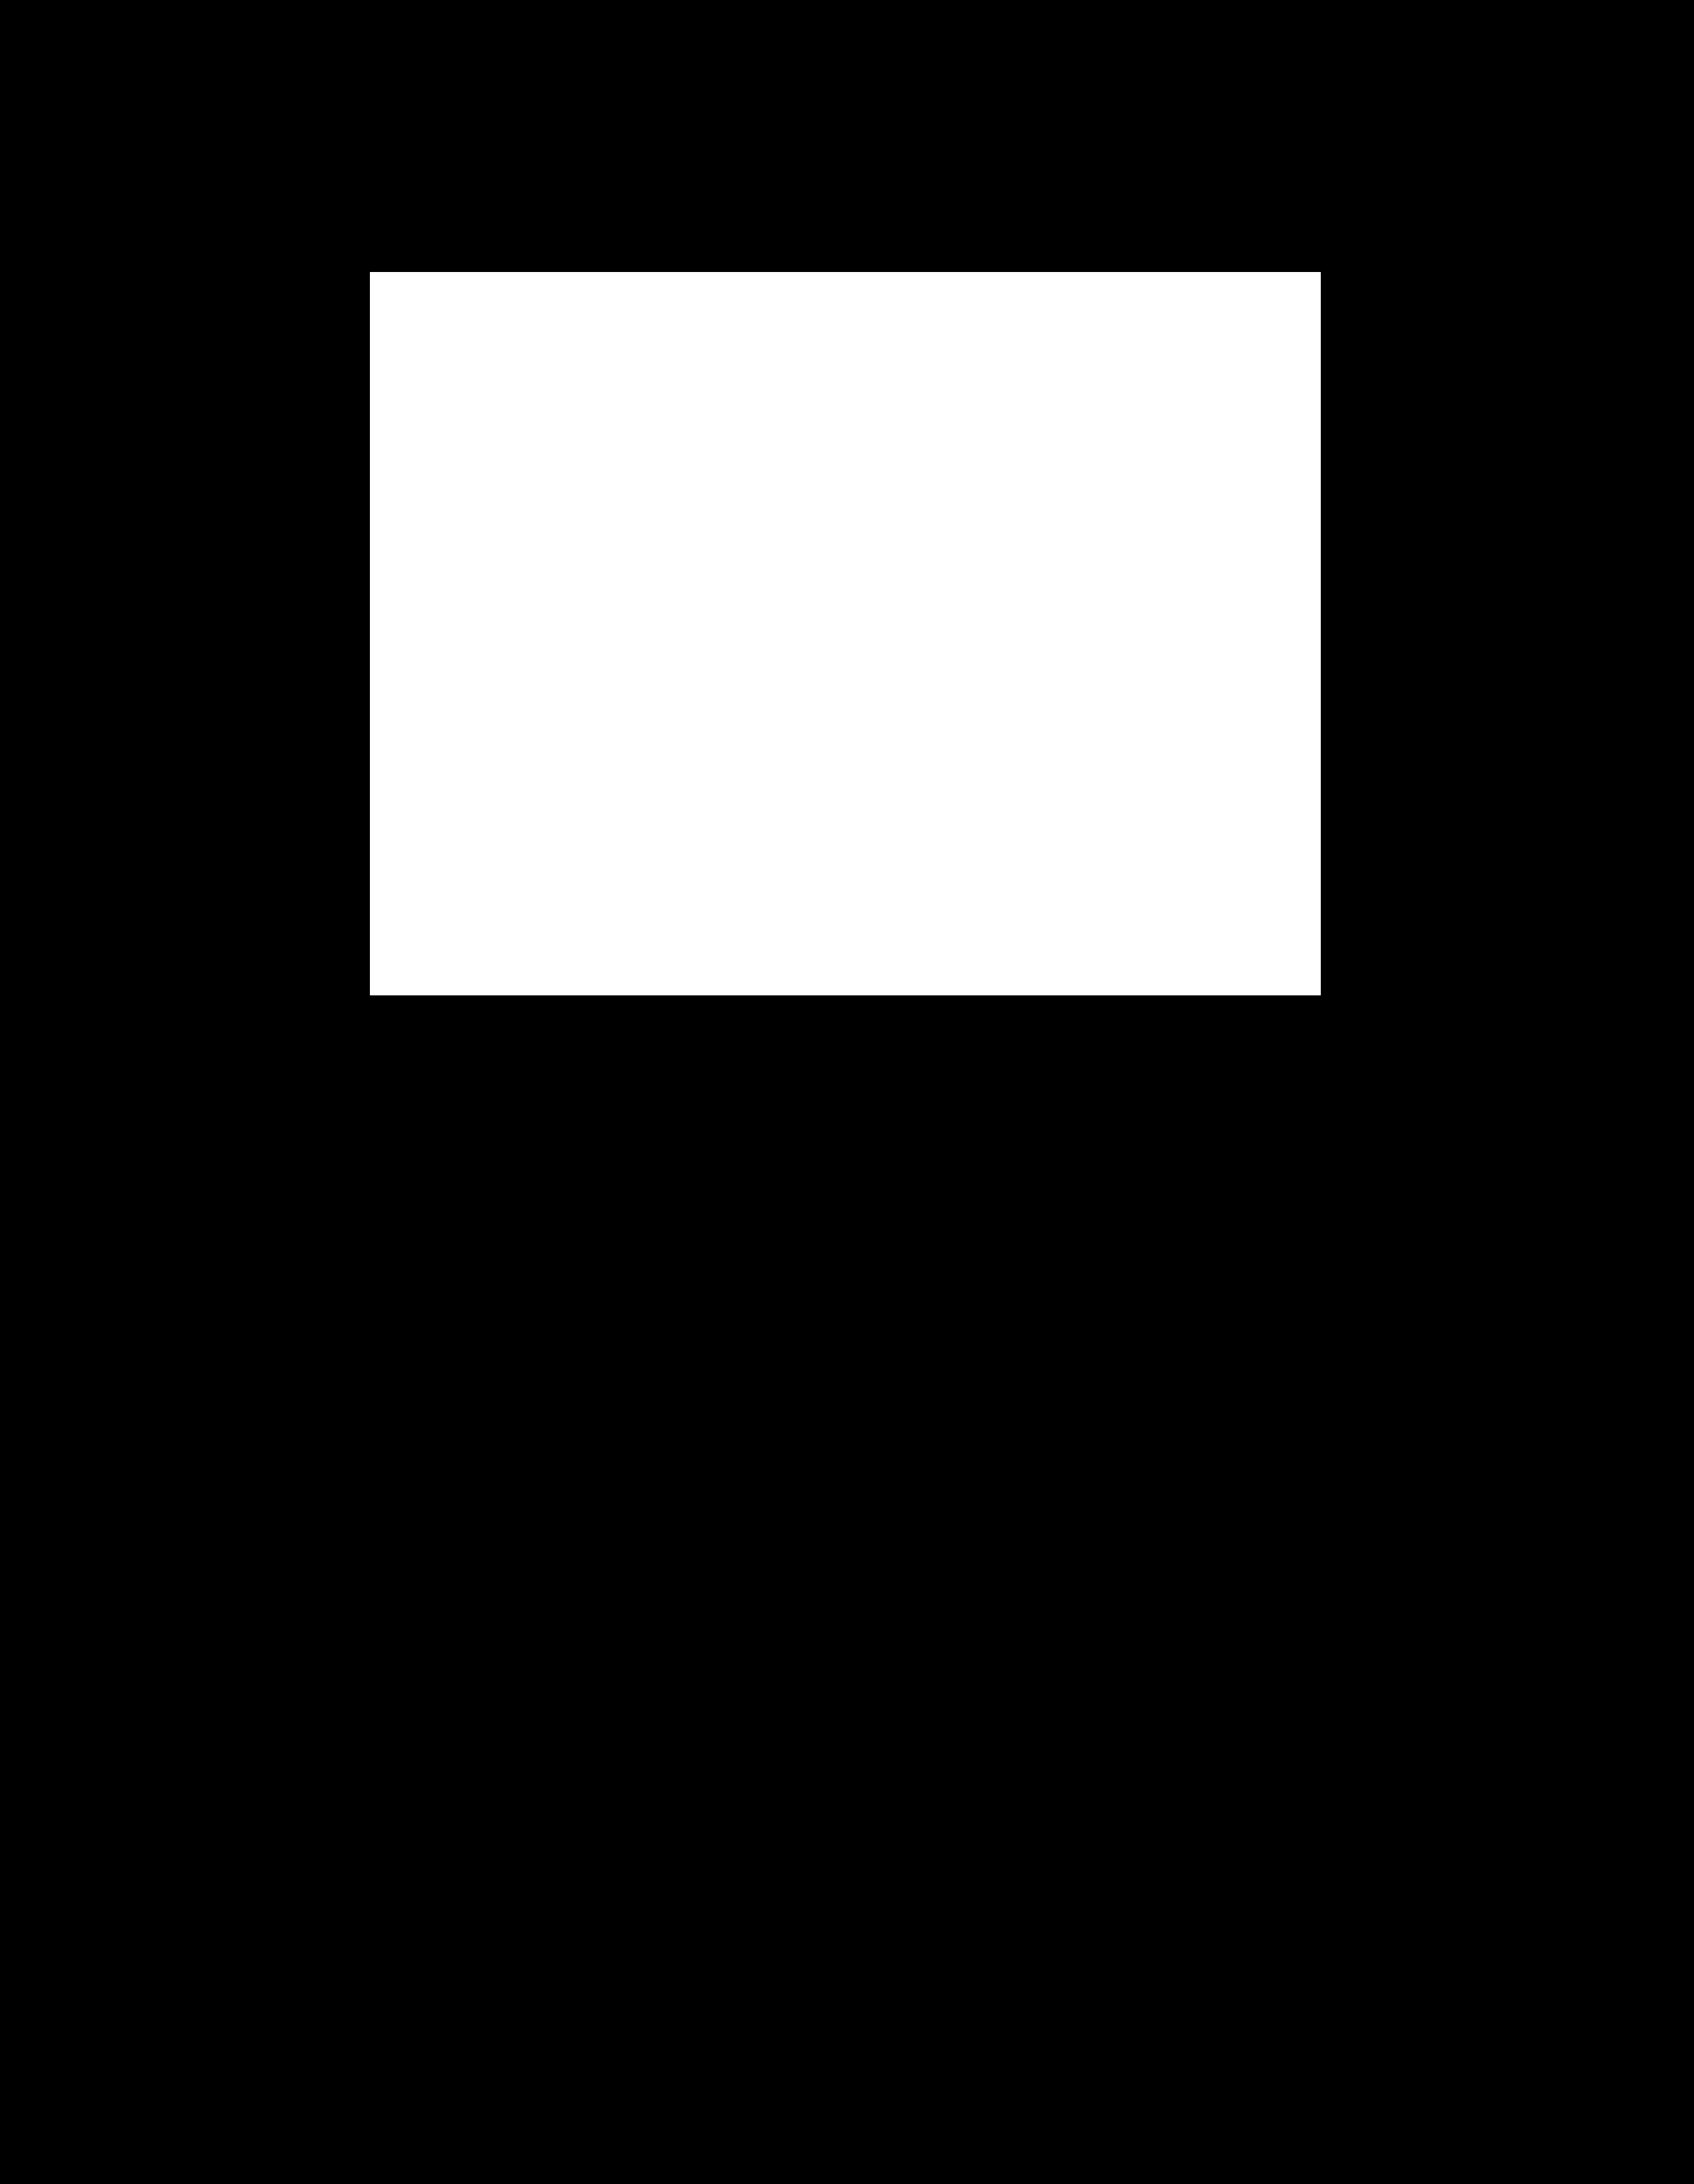table: (370, 271, 1320, 994)
